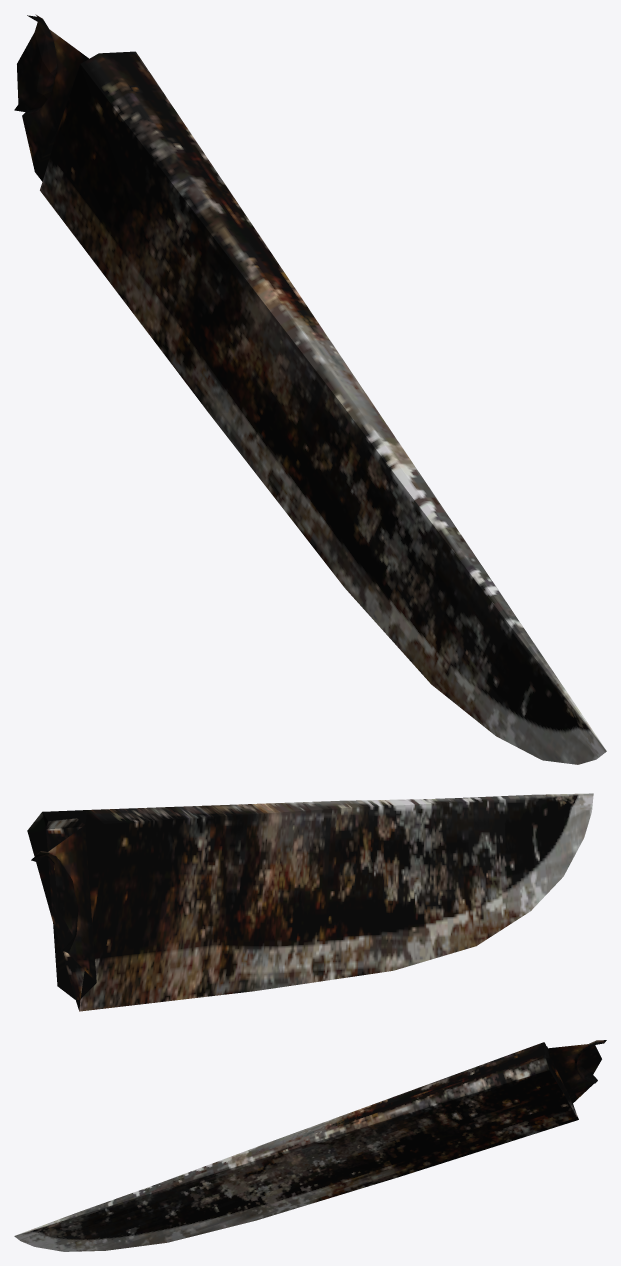
Rendered from sh-pyramid-lame.glb.
3 renders of one model, top to bottom at view 1: azimuth 30°, elevation 25°; view 2: azimuth 150°, elevation 25°; view 3: azimuth 270°, elevation 25°, orthographic. The views are drawn at different scales.
Bounding box in the file's own units: 0.0998 × 0.4304 × 1.1.
1 material, 1 textured.
